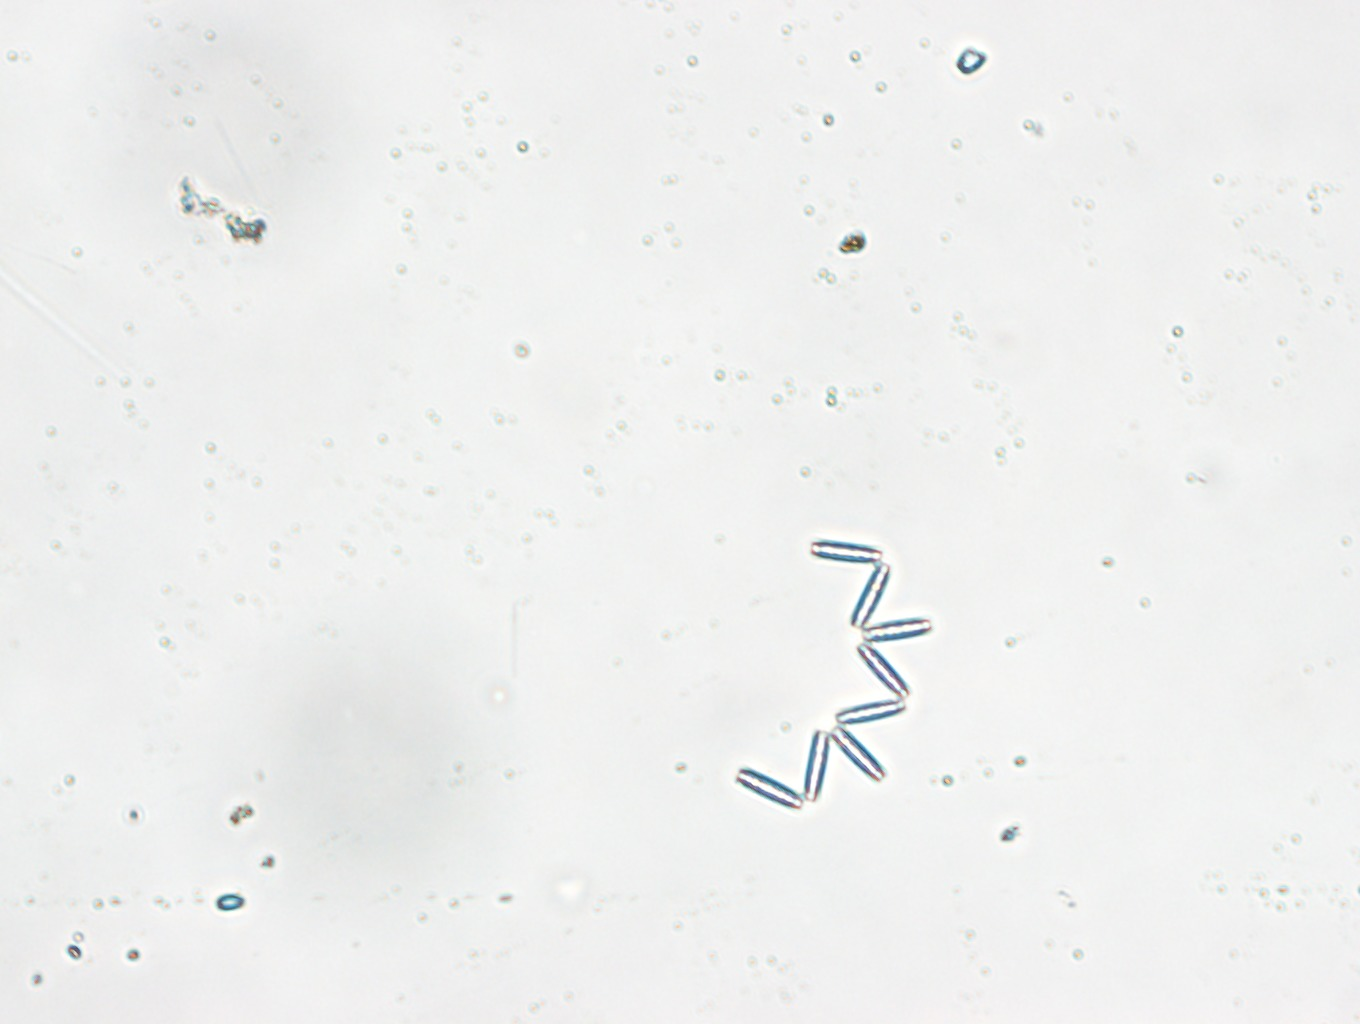thalassionema nitzschioides: (735, 536, 930, 812)
